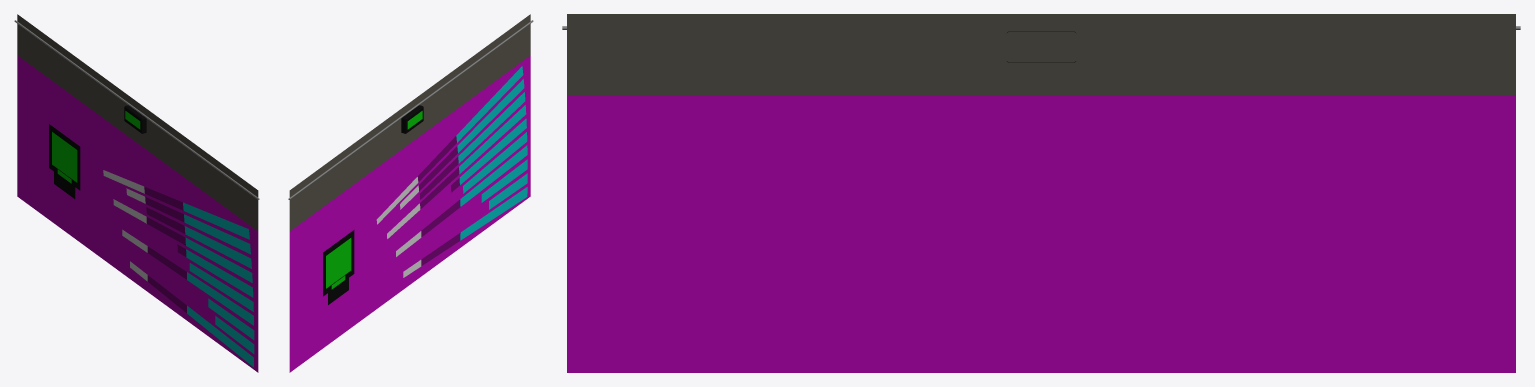
Rendered from backwall_2.fbx.
The picture shows the model from 3 angles, left to right: view 1: azimuth 30°, elevation 25°; view 2: azimuth 150°, elevation 25°; view 3: azimuth 270°, elevation 25°; orthographic projection. The views are drawn at different scales.
Visible parts, largest first — view 1: backwall_geo, backwall_stripes, backwall_tv, backall_pipe, backwall_clock; view 2: backwall_geo, backwall_stripes, backwall_tv, backall_pipe, backwall_clock; view 3: backwall_geo.
Boxes of the visible parts, x1,y1,x2,y2 form: backwall_geo: (17, 14, 258, 372); backwall_stripes: (103, 170, 254, 367); backwall_tv: (49, 124, 80, 198); backall_pipe: (14, 20, 259, 199); backwall_clock: (124, 105, 146, 133); backwall_geo: (289, 14, 530, 372); backwall_stripes: (376, 66, 527, 277); backwall_tv: (323, 230, 354, 304); backall_pipe: (288, 20, 533, 199); backwall_clock: (401, 105, 423, 133); backwall_geo: (567, 14, 1515, 372).
Bounding box in the file's own units: 8.13 × 260 × 629.
